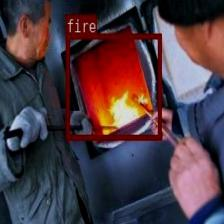fire: (65, 33, 160, 139)
